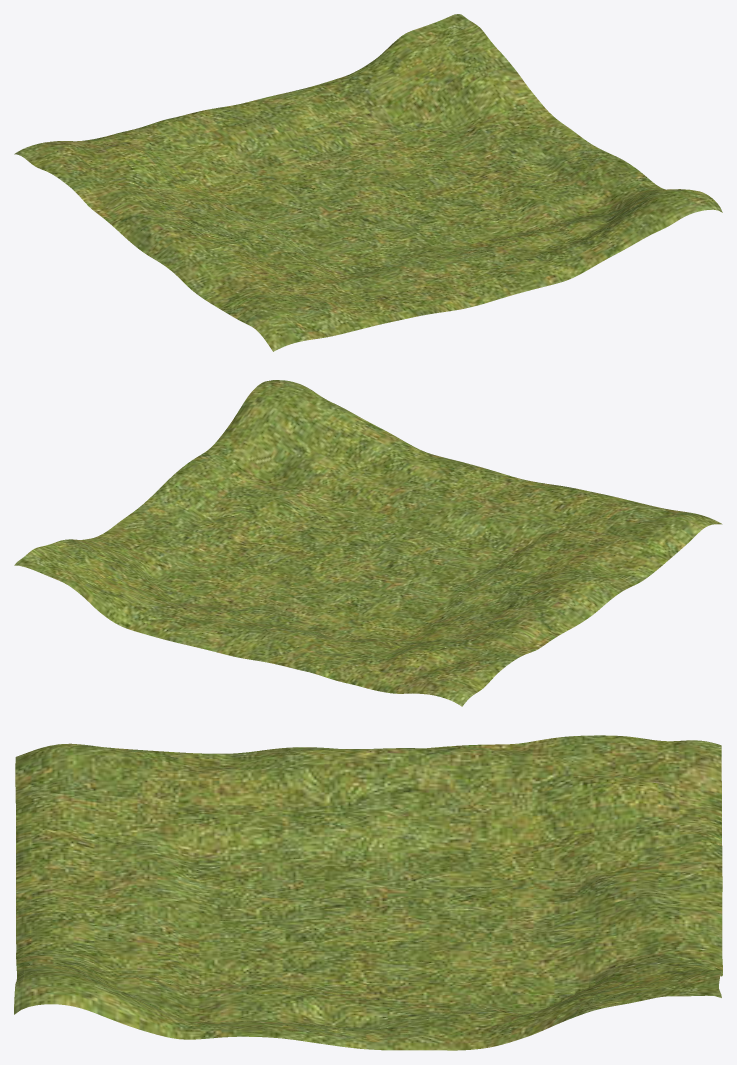
Rendered from terrain.obj.
3 renders of one model, top to bottom at view 1: azimuth 30°, elevation 25°; view 2: azimuth 150°, elevation 25°; view 3: azimuth 270°, elevation 25°, orthographic. The views are drawn at different scales.
Visible parts, largest first — view 1: Plane.001_Plane; view 2: Plane.001_Plane; view 3: Plane.001_Plane.
Boxes of the visible parts, x1=… form: Plane.001_Plane: x1=14, y1=14, x2=722, y2=351; Plane.001_Plane: x1=14, y1=380, x2=722, y2=706; Plane.001_Plane: x1=14, y1=735, x2=722, y2=1050.
Bounding box in the file's own units: 401 × 40.9 × 402.
1 material, 1 textured.
